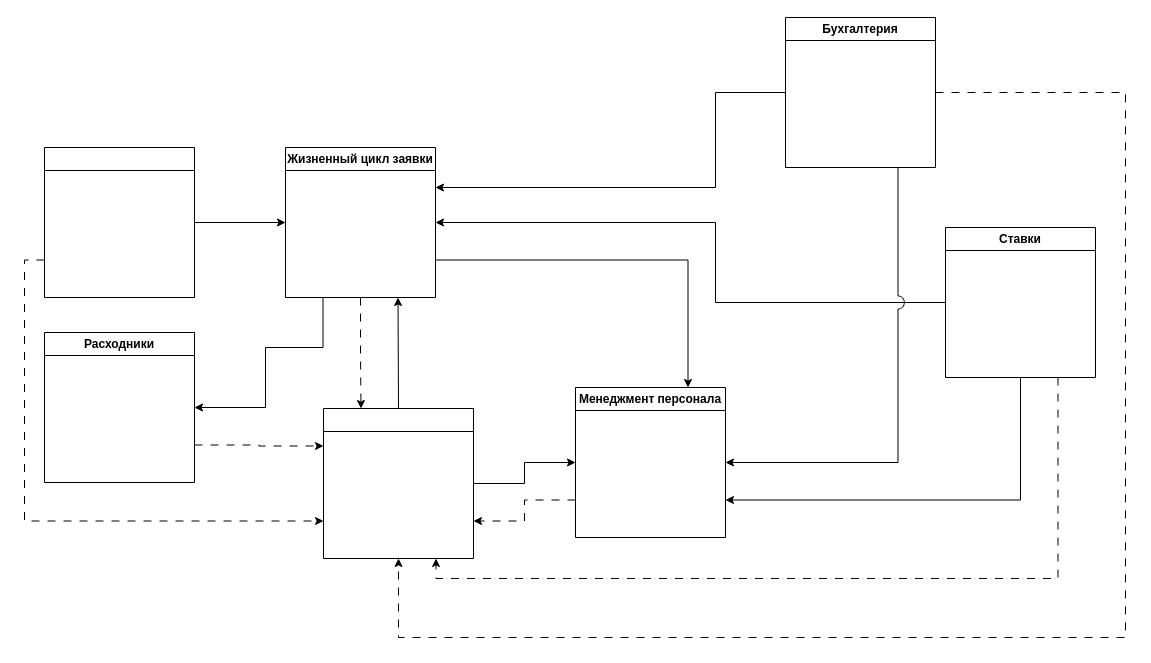
Some shapes in this 1151 by 663 pixel diagram are drawn without their labels. Here are the shapes that lost their labels. From the top down, the centre of each, then its label:
At (119,222): "Контроль качества".
At (398,483): "Авторизация".
